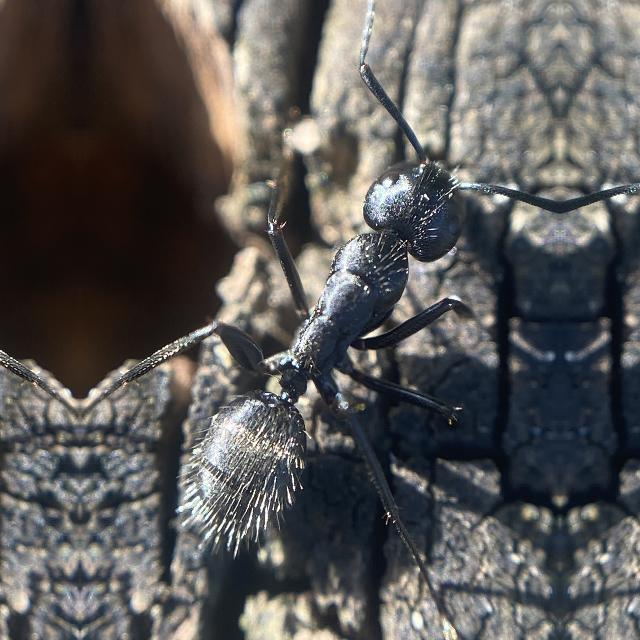Camponotus: (137, 92, 559, 562)
